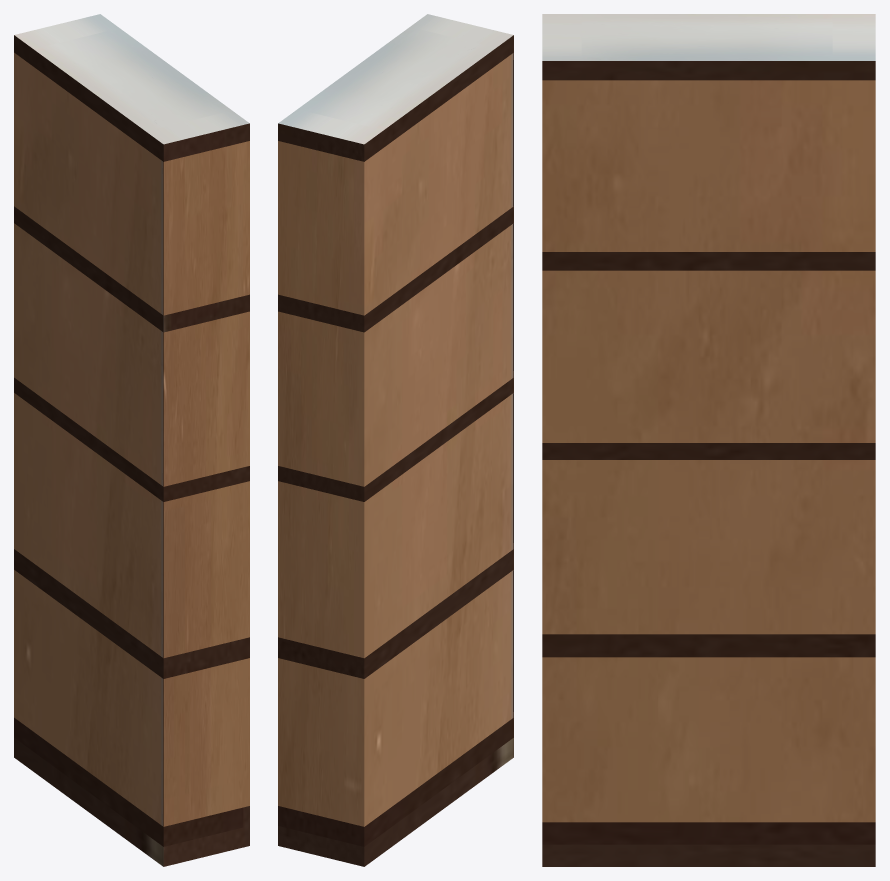
Rendered from panno3.fbx.
The picture shows the model from 3 angles, left to right: view 1: azimuth 30°, elevation 25°; view 2: azimuth 150°, elevation 25°; view 3: azimuth 270°, elevation 25°; orthographic projection. The views are drawn at different scales.
Visible parts, largest first — view 1: Cube.012; view 2: Cube.012; view 3: Cube.012.
Boxes of the visible parts, left/top/right/bottom form: Cube.012: left=14, top=14, right=249, bottom=866; Cube.012: left=278, top=14, right=513, bottom=866; Cube.012: left=542, top=14, right=875, bottom=866.
Size of the model in its own units: 200 by 1600 by 600.
3 materials, 3 textured.
